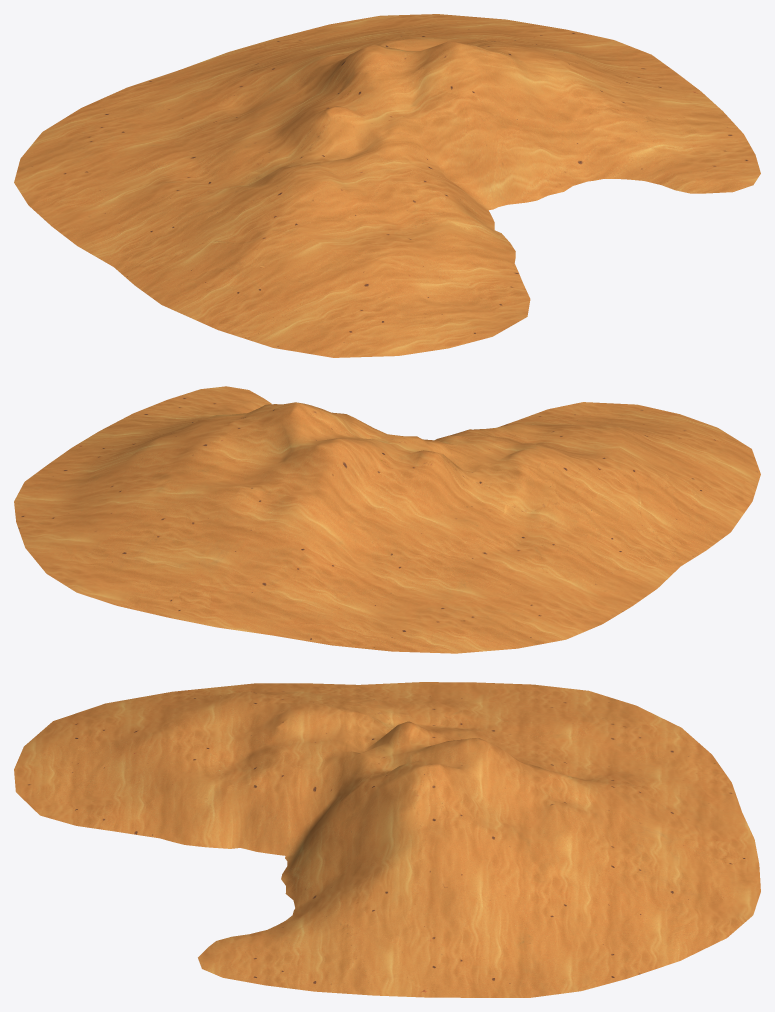
The model's file is EP1_Terrain03b.fbx.
3 renders of one model, top to bottom at view 1: azimuth 30°, elevation 25°; view 2: azimuth 150°, elevation 25°; view 3: azimuth 270°, elevation 25°, orthographic. The views are drawn at different scales.
Visible parts, largest first — view 1: EP1_Terrain03b; view 2: EP1_Terrain03b; view 3: EP1_Terrain03b.
Boxes of the visible parts, x1,y1,x2,y2 form: EP1_Terrain03b: (14,14,760,357); EP1_Terrain03b: (14,386,760,653); EP1_Terrain03b: (14,682,760,997).
Bounding box in the file's own units: 21.78 × 3.53 × 21.76.
Materials: 1 (1 with a texture image).
